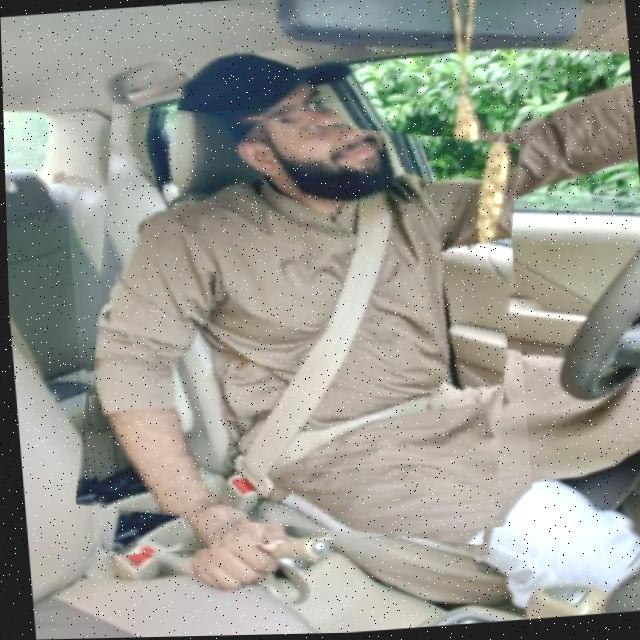seatbelt: (58, 91, 531, 557)
